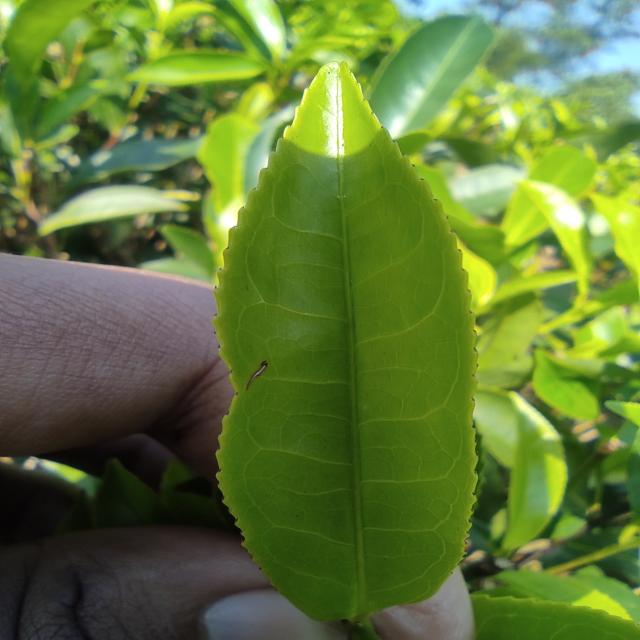Category C 4-7 days: (188, 36, 522, 640)
